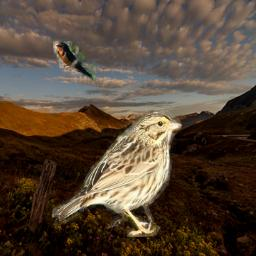Sparrow: (52, 110, 182, 237)
Swallow: (53, 41, 96, 81)
